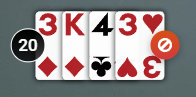3: (115, 11, 142, 39), (34, 11, 62, 37)
4: (89, 11, 115, 38)
k: (61, 11, 88, 38)
